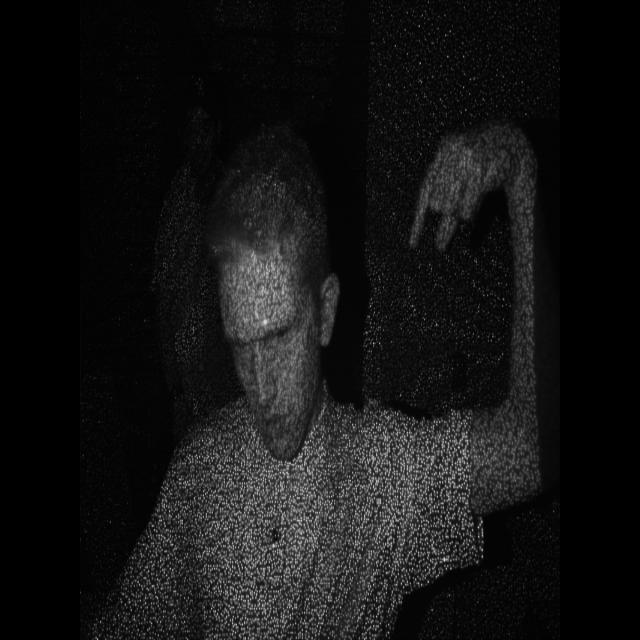Q: (396, 113, 491, 261)
